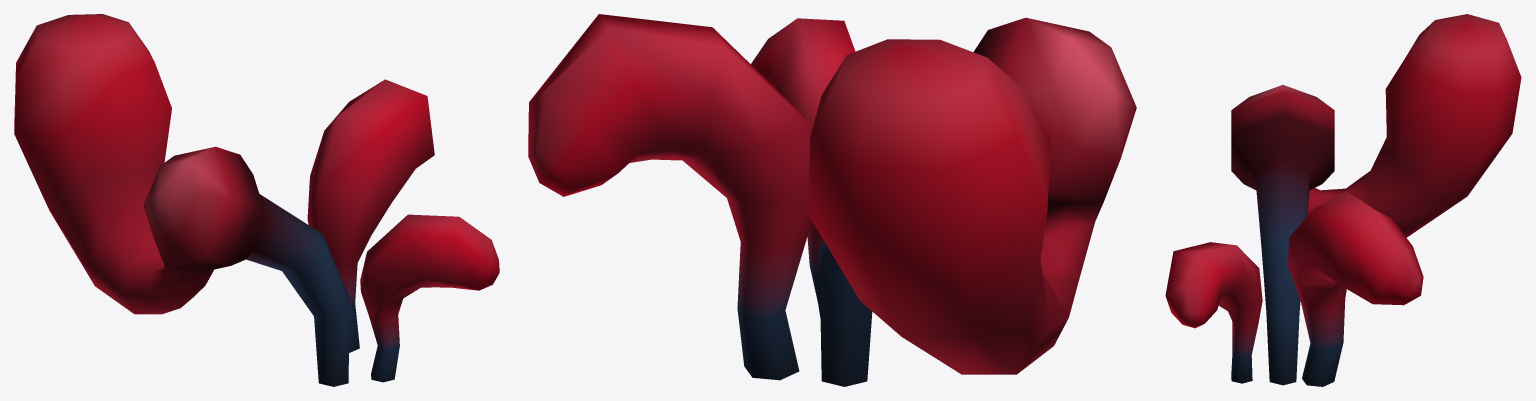
Rendered from Alien_Bush05.fbx.
3 views of the same model, side by side, from view 1: azimuth 30°, elevation 25°; view 2: azimuth 150°, elevation 25°; view 3: azimuth 270°, elevation 25° (orthographic). The views are drawn at different scales.
Parts seen in each view (by area): view 1: Alien_Bush05; view 2: Alien_Bush05; view 3: Alien_Bush05.
Part boxes in pixels (box(x1,y1,x2,y2)): Alien_Bush05: box(14, 14, 499, 386); Alien_Bush05: box(528, 14, 1136, 386); Alien_Bush05: box(1165, 14, 1521, 386).
Bounding box in the file's own units: 2062 × 1700 × 1889.
